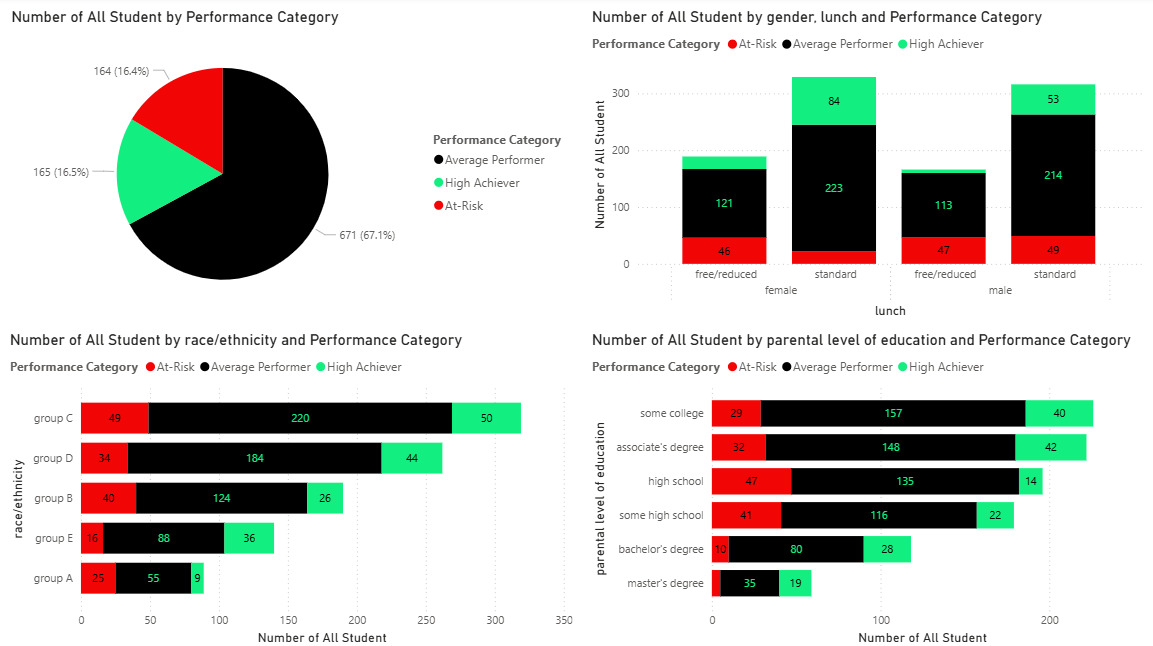

The page's visual inventory and layout, read from the dashboard file:
{"tool":"powerbi","page":{"name":"Performance Category","canvas":[1280,720],"ordinal":7},"visuals":[{"type":"pieChart","fields":{"Category":["FactStudentsScores.Performance Category"],"Y":["_Measures.Number of All Student"]},"box":[9.9,0,629.5,359.5],"z":0},{"type":"barChart","fields":{"Category":["DimDemographic.race/ethnicity"],"Series":["FactStudentsScores.Performance Category"],"Y":["_Measures.Number of All Student"]},"box":[8.3,369.4,631.1,351.2],"z":1000},{"type":"columnChart","fields":{"Series":["FactStudentsScores.Performance Category"],"Category":["DimStudent.gender","DimStudent.lunch"],"Y":["_Measures.Number of All Student"]},"box":[651,0,617.9,359.5],"z":2000},{"type":"barChart","fields":{"Category":["DimEducation.parental level of education"],"Y":["_Measures.Number of All Student"],"Series":["FactStudentsScores.Performance Category"]},"box":[651,369.4,617.9,351.2],"z":3000}]}

Visuals, with their boxes in screenshot pixels (x1, y1, x2, y2), scaled from the page's 1280x720 canvas onto the 1153x646 screenshot:
pieChart - FactStudentsScores.Performance Category x _Measures.Number of All Student: select_region(9, 0, 576, 323)
barChart - DimDemographic.race/ethnicity x FactStudentsScores.Performance Category: select_region(7, 331, 576, 645)
columnChart - FactStudentsScores.Performance Category x DimStudent.gender: select_region(586, 0, 1143, 323)
barChart - DimEducation.parental level of education x _Measures.Number of All Student: select_region(586, 331, 1143, 645)
